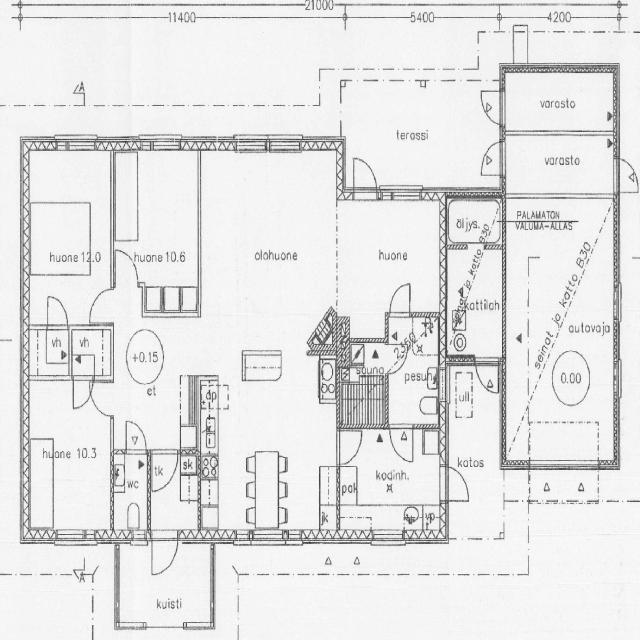door: (68, 328, 114, 380), (350, 150, 380, 201), (150, 530, 179, 580), (149, 450, 179, 496), (86, 376, 116, 420), (70, 374, 101, 416), (87, 285, 117, 328), (112, 244, 141, 288), (444, 462, 473, 506), (472, 357, 502, 399), (336, 426, 364, 470), (388, 422, 416, 465), (386, 279, 414, 319), (44, 291, 70, 332), (614, 153, 639, 194), (124, 418, 149, 457), (479, 88, 504, 126), (480, 141, 502, 175), (386, 341, 408, 374)
window: (382, 182, 426, 207), (58, 134, 104, 156), (611, 276, 624, 340), (250, 530, 288, 549), (608, 152, 623, 194), (613, 354, 624, 403), (497, 136, 509, 180)
zone: (196, 149, 340, 341), (519, 209, 619, 471), (198, 367, 337, 542), (27, 146, 114, 315), (27, 377, 114, 544), (332, 428, 443, 544), (112, 146, 201, 290), (336, 195, 443, 314), (501, 134, 616, 199), (502, 70, 615, 136), (447, 241, 504, 361), (386, 318, 441, 430), (338, 341, 387, 430), (111, 452, 150, 538), (447, 197, 502, 244), (69, 326, 113, 379), (28, 326, 72, 379), (444, 462, 473, 508)
